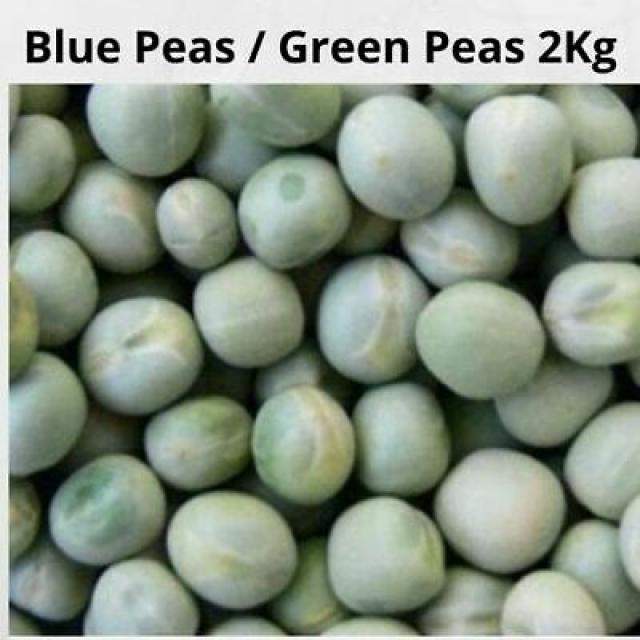pea: (8, 83, 640, 635)
